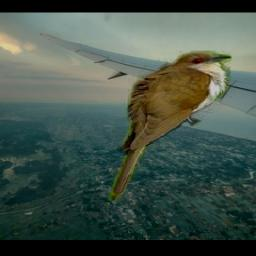Cuckoo: (108, 52, 233, 202)
